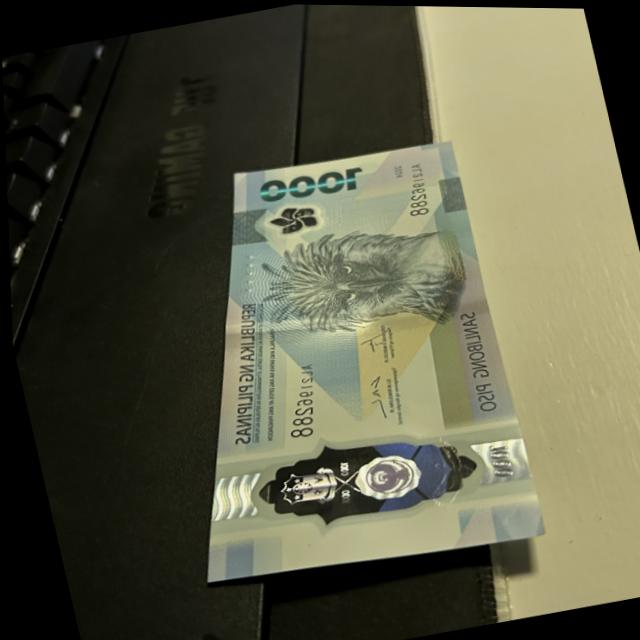clear_window: (247, 416, 486, 537)
eagle: (238, 212, 464, 358)
sampaguita: (259, 195, 318, 241)
